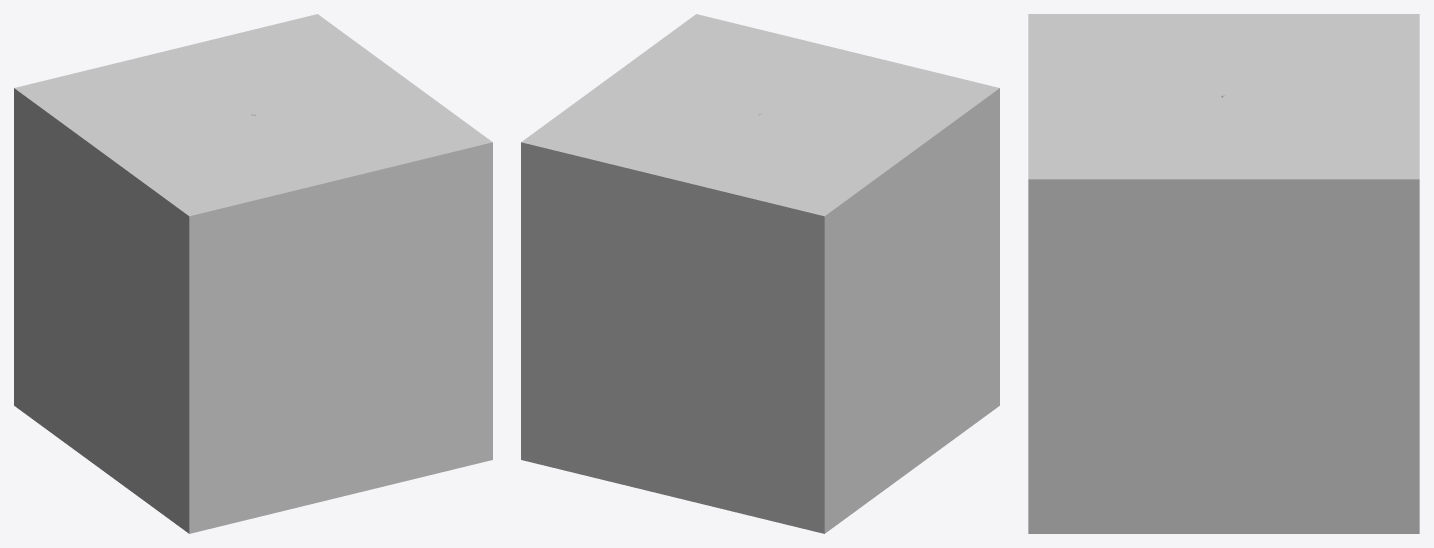
The model's file is rocketblend.glb.
3 views of the same model, side by side, from view 1: azimuth 30°, elevation 25°; view 2: azimuth 150°, elevation 25°; view 3: azimuth 270°, elevation 25° (orthographic). The views are drawn at different scales.
Parts seen in each view (by area): view 1: Cube; view 2: Cube; view 3: Cube.
Boxes of the visible parts, x1,y1,x2,y2 form: Cube: (14,14,492,533); Cube: (521,14,999,533); Cube: (1028,14,1419,533).
Size of the model in its own units: 2 by 2 by 2.
2 materials, 1 textured.
